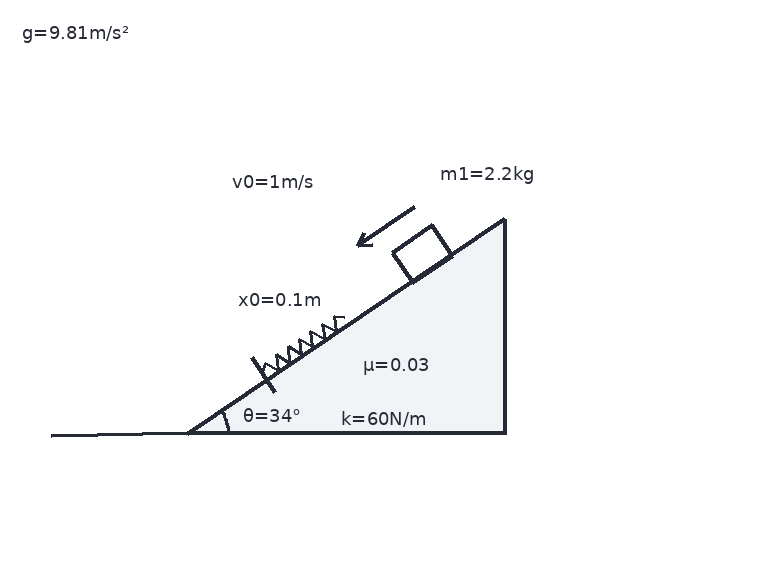block: (390, 223, 454, 284)
ramp: (186, 218, 506, 435)
spring: (260, 313, 346, 374)
